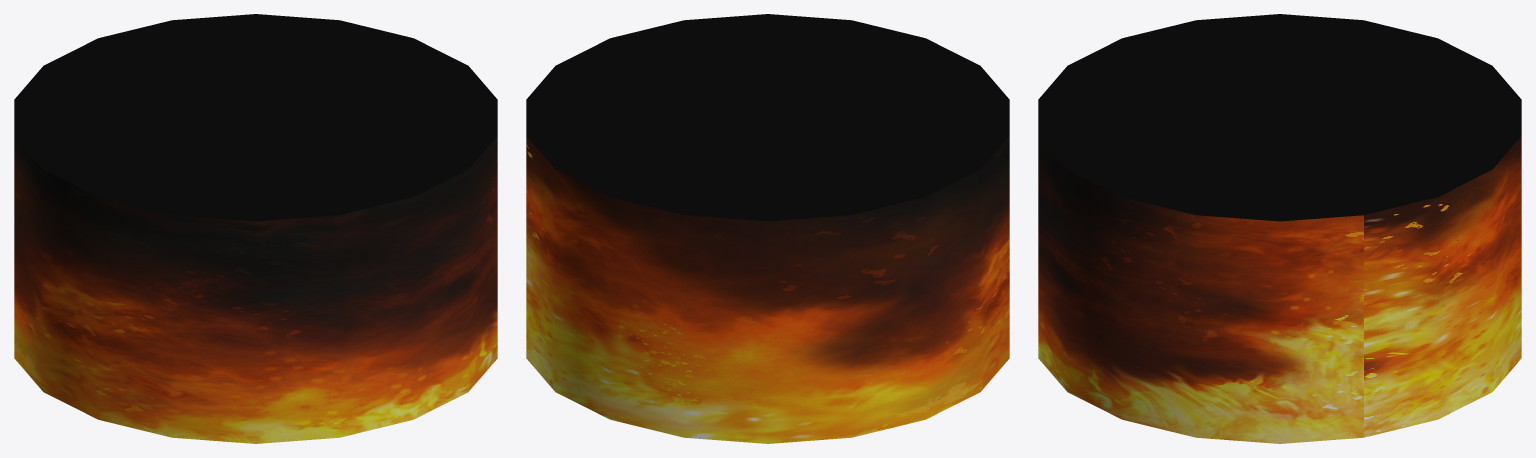
File: Fire.FBX
3 renders of one model, left to right at view 1: azimuth 30°, elevation 25°; view 2: azimuth 150°, elevation 25°; view 3: azimuth 270°, elevation 25°, orthographic.
Visible parts, largest first — view 1: Cylinder001; view 2: Cylinder001; view 3: Cylinder001.
Part boxes in pixels (x1,y1,x2,y2): Cylinder001: (14,14,497,443); Cylinder001: (526,14,1009,443); Cylinder001: (1038,14,1521,443).
Bounding box in the file's own units: 2 × 1 × 1.97.
Materials: 1 (1 with a texture image).
